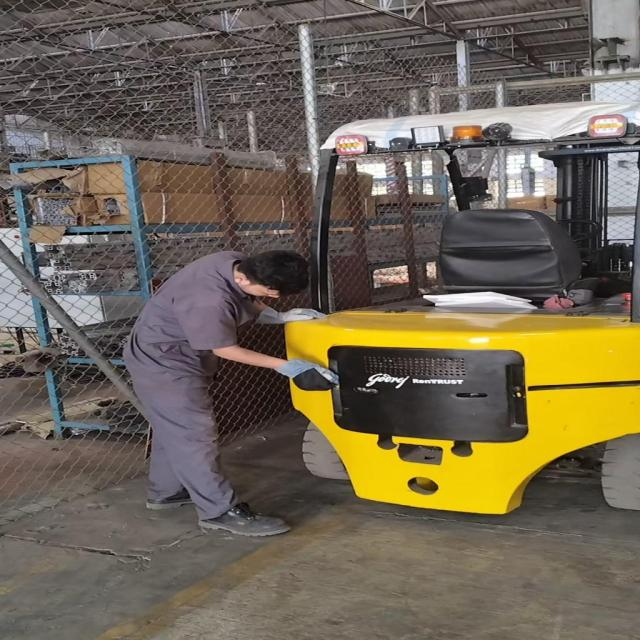Gloves-Detection: (272, 360, 340, 398), (257, 307, 325, 333)
